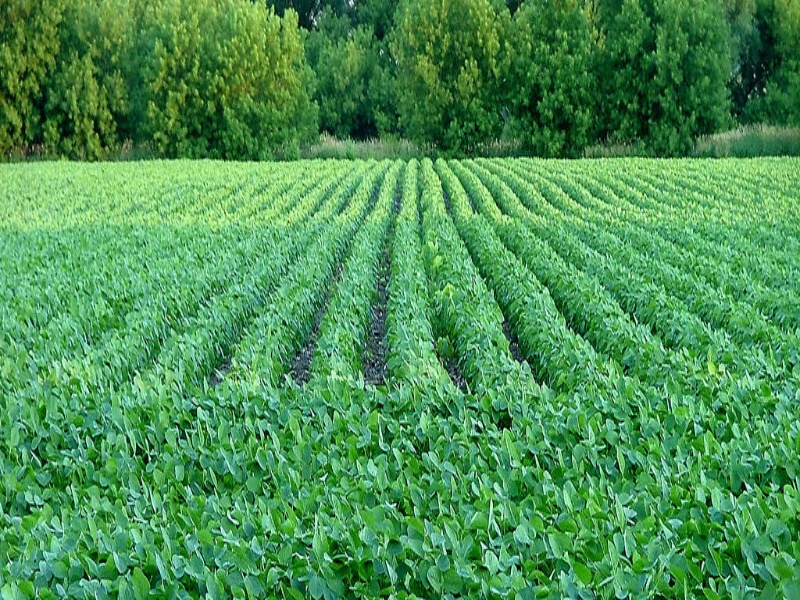soyabean: (6, 390, 795, 596), (14, 278, 295, 361), (578, 254, 777, 358), (507, 283, 583, 354), (445, 296, 518, 366), (392, 297, 434, 360)
